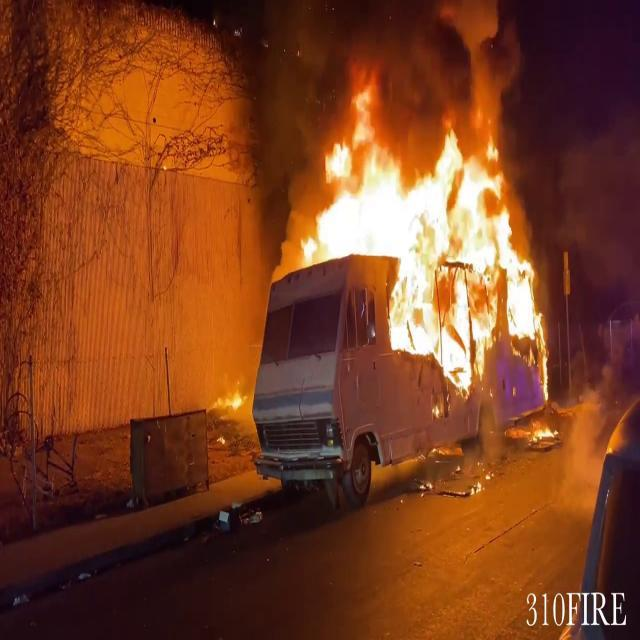Fire: (294, 75, 550, 373), (217, 382, 250, 412)
